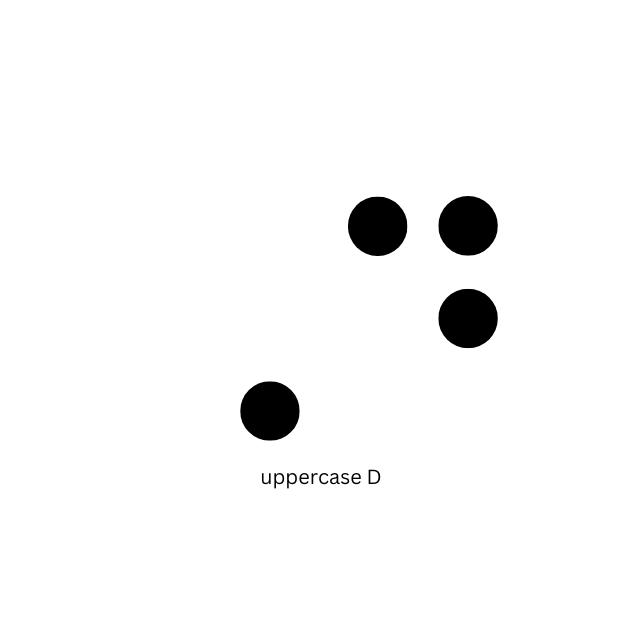capital_sign: (149, 190, 299, 439)
letter_D: (348, 196, 498, 445)
